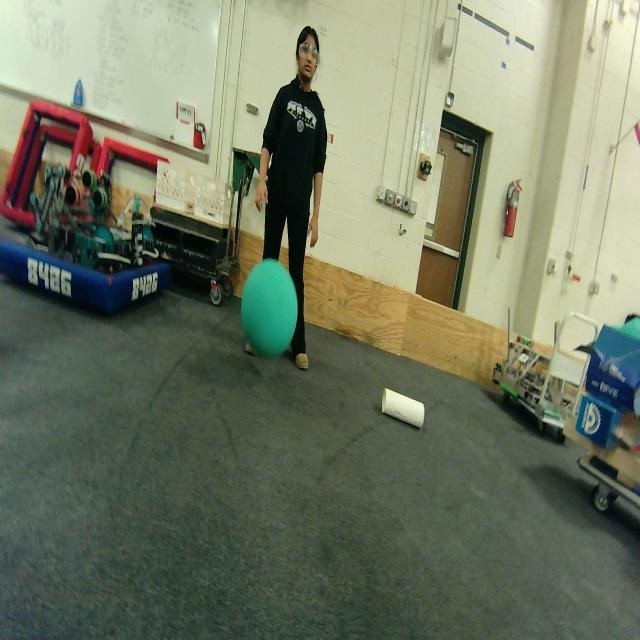algae: (241, 258, 297, 358)
